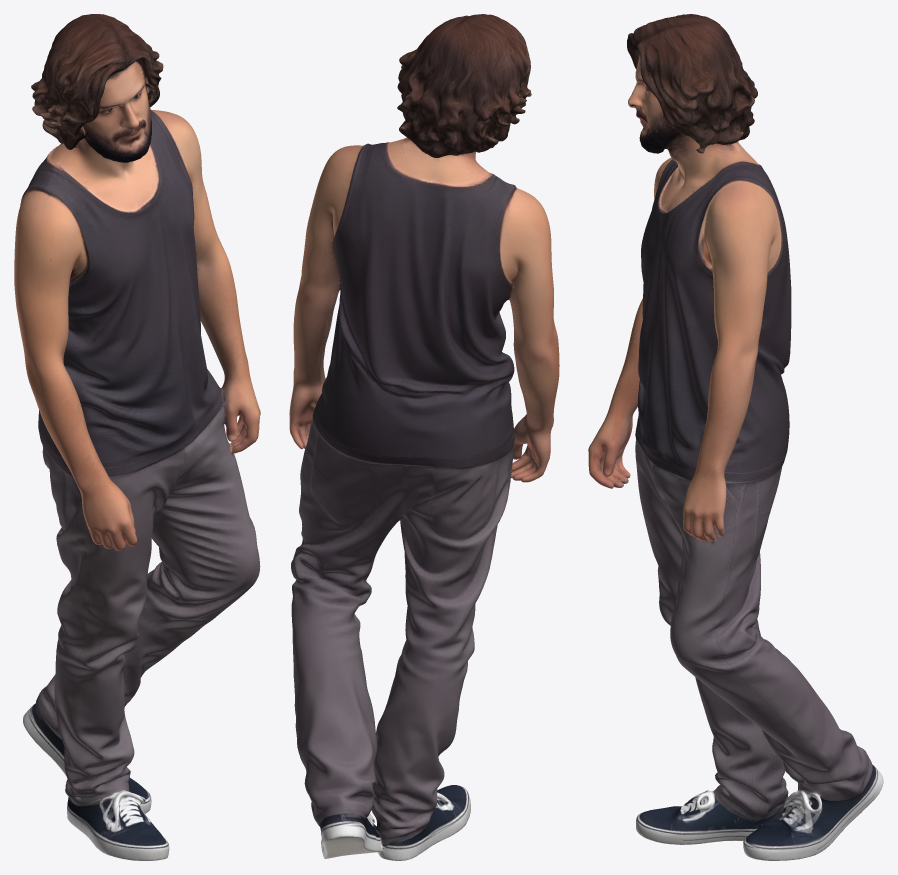
File: casual_in_gray.glb
The picture shows the model from 3 angles, left to right: view 1: azimuth 30°, elevation 25°; view 2: azimuth 150°, elevation 25°; view 3: azimuth 270°, elevation 25°; orthographic projection. The views are drawn at different scales.
Parts seen in each view (by area): view 1: Object_6, Object_7, Object_5; view 2: Object_5, Object_6, Object_7; view 3: Object_5, Object_6, Object_7.
Boxes of the visible parts, x1,y1,x2,y2 form: Object_6: (14, 14, 260, 859); Object_7: (20, 25, 249, 860); Object_5: (14, 28, 260, 841); Object_5: (291, 30, 556, 860); Object_6: (289, 14, 557, 859); Object_7: (437, 14, 559, 807); Object_5: (588, 23, 883, 843); Object_6: (641, 14, 883, 860); Object_7: (611, 19, 685, 842).
Bounding box in the file's own units: 0.5954 × 1.9 × 0.6339.
Materials: 1 (1 with a texture image).
